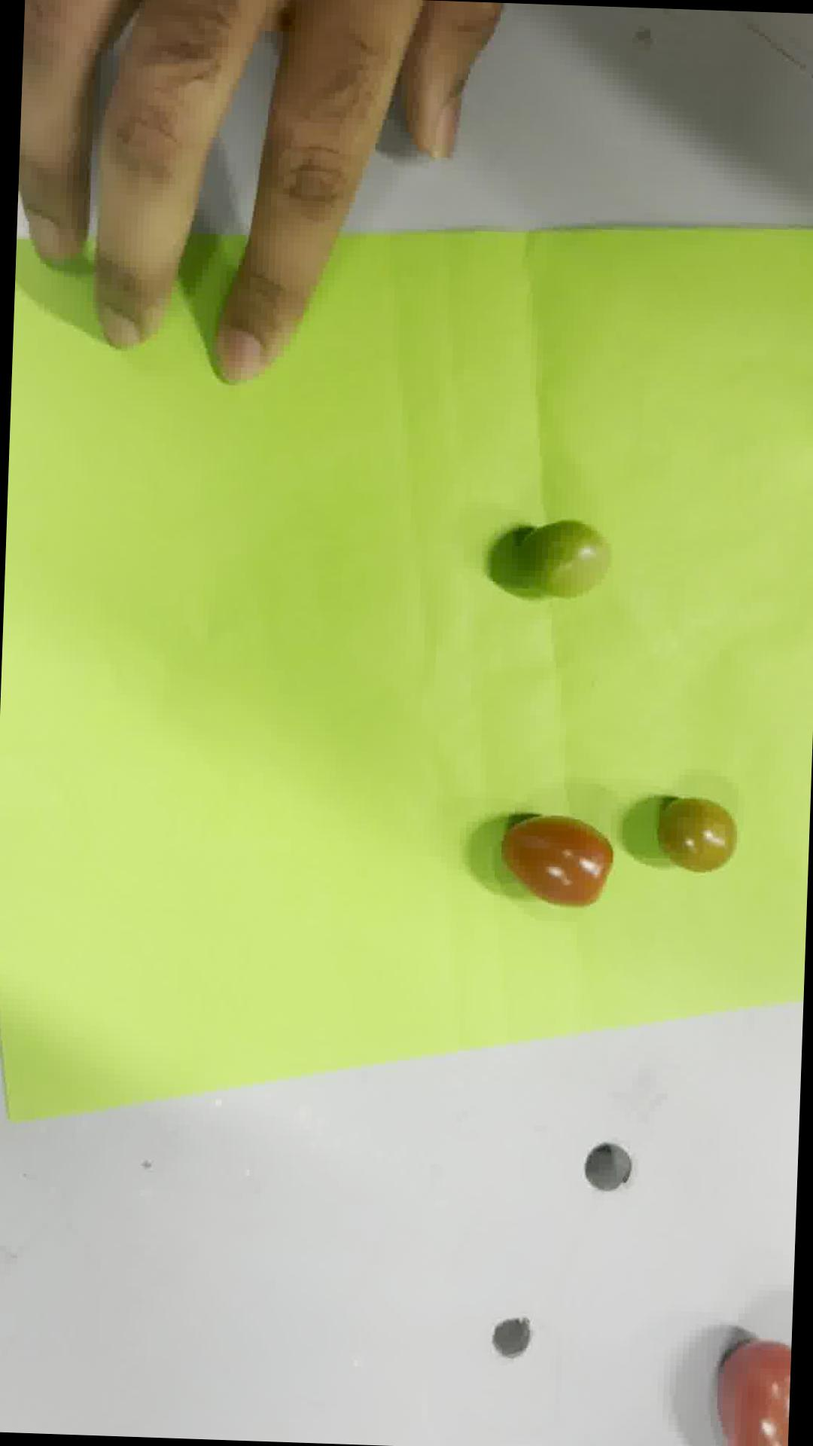red_cherry_tomato: (503, 816, 612, 906)
yellow_cherry_tomato: (657, 797, 737, 872)
